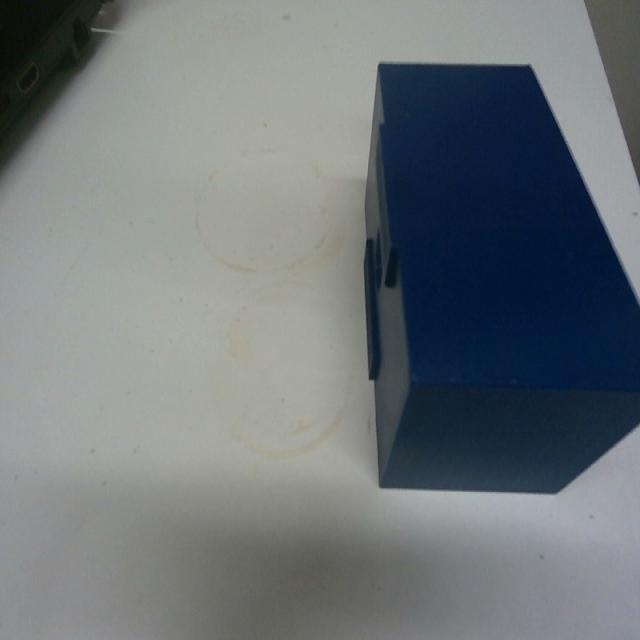Blue Cuboid: (360, 57, 639, 496)
